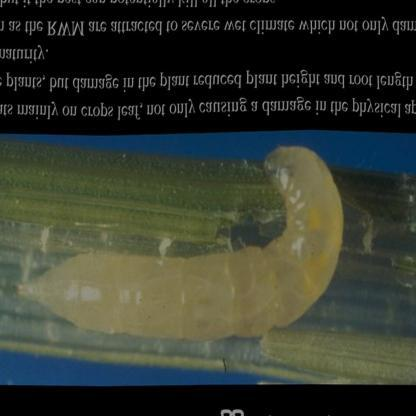whorl-maggot: (13, 144, 352, 354)
